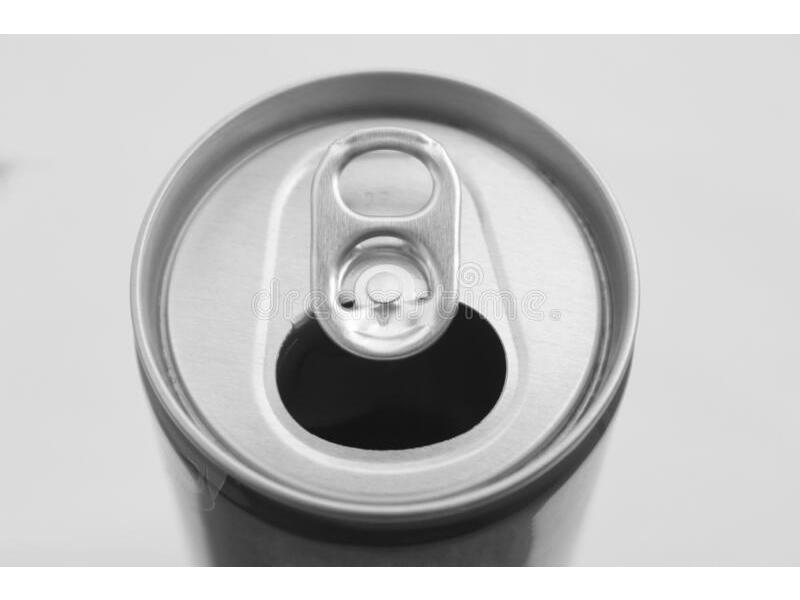can: (120, 60, 642, 568)
